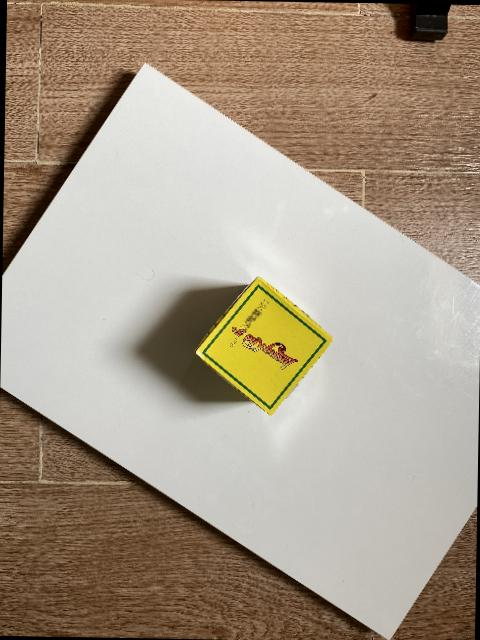luong_kho: (192, 275, 332, 415)
